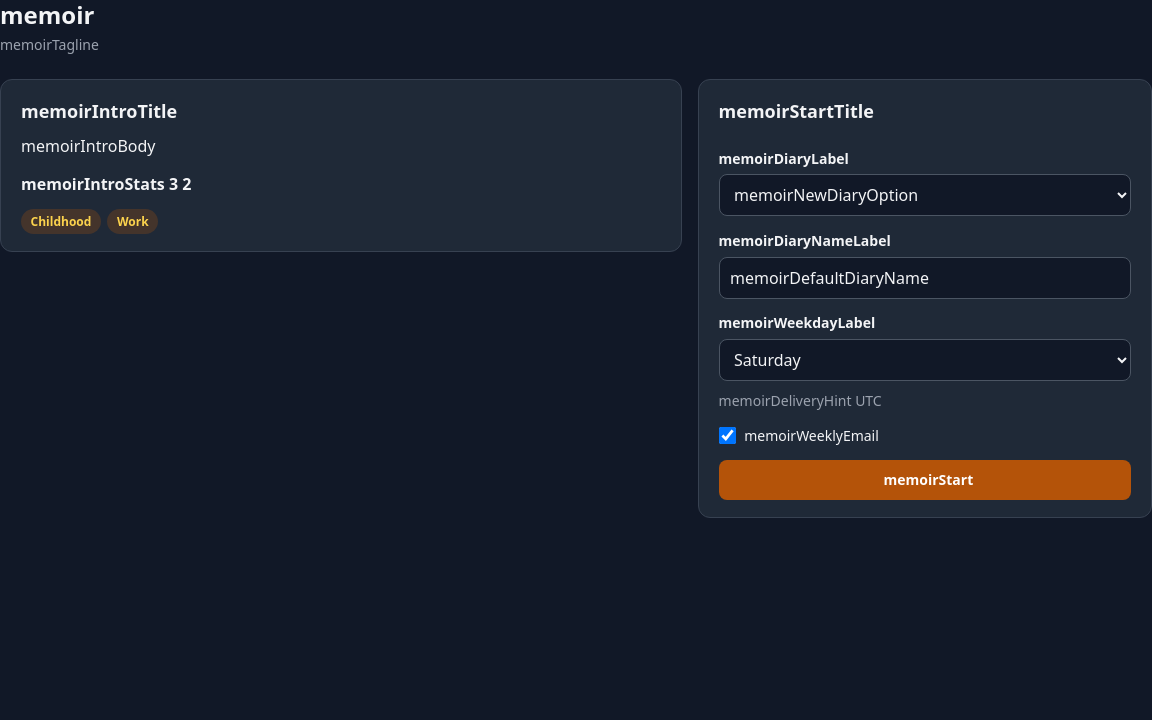
Test case: MemoirPage › introduces the program and starts it in a new diary named by the writer
expect the heading "memoirIntroTitle" is shown: met, box [21,99,177,123]
expect the text "memoirIntroStats 3 2" is shown: met, box [21,173,191,195]
Replace the text in the field labelled "memoirDiaryNameLabel" with "  Grandpa’s story ". click: (925, 278)
box: [719,257,1131,299]
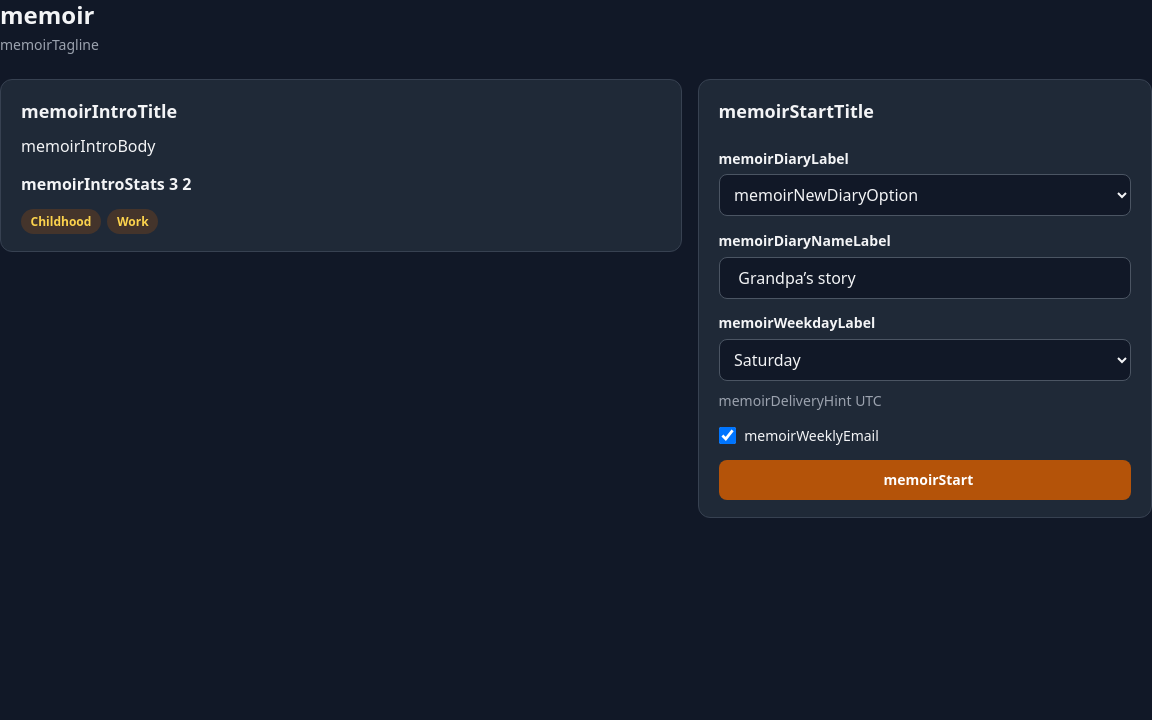
Select "Wednesday" in the dropdown labelled "memoirWeekdayLabel". click: (925, 360)
box: [719,339,1131,381]
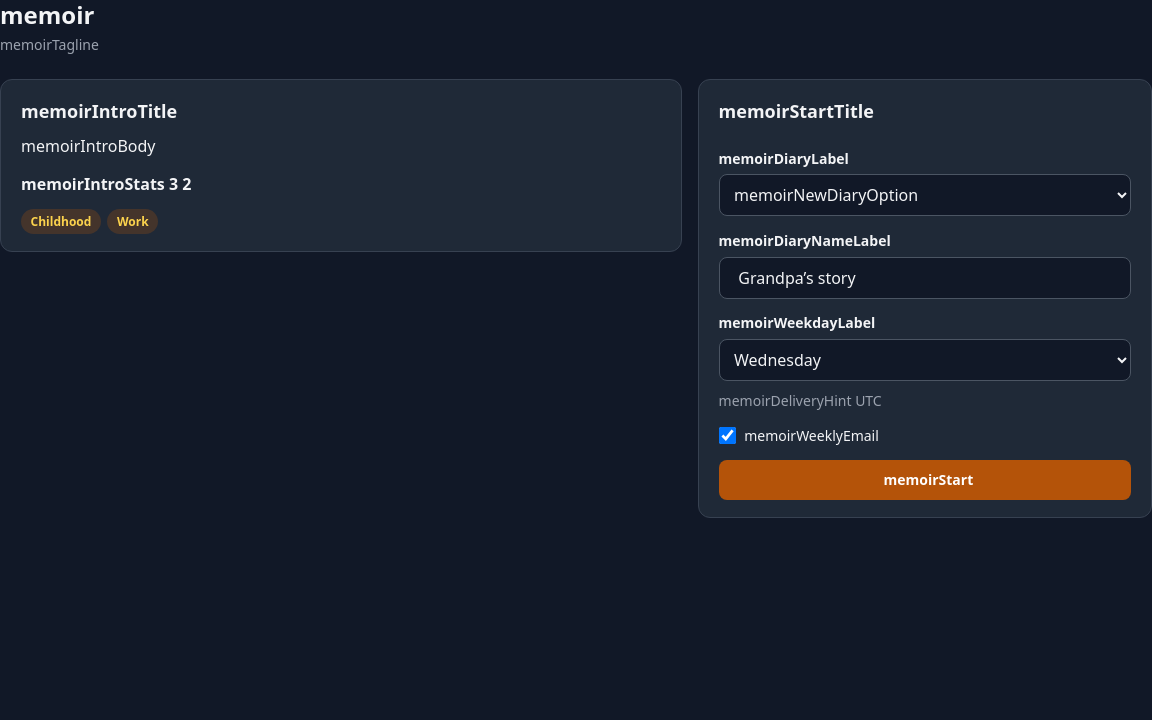
Click the checkbox labelled "memoirWeeklyEmail". click: (727, 435)
box: [719,427,736,444]
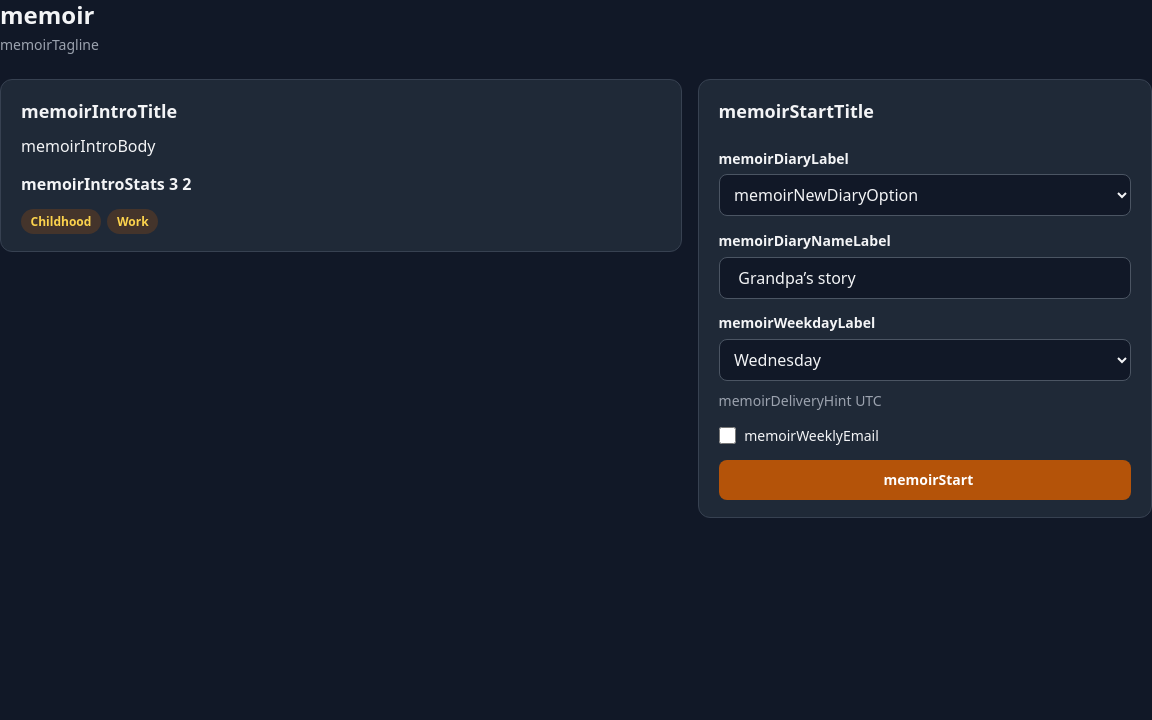
Click the button "memoirStart". click: (925, 480)
box: [719,460,1131,500]
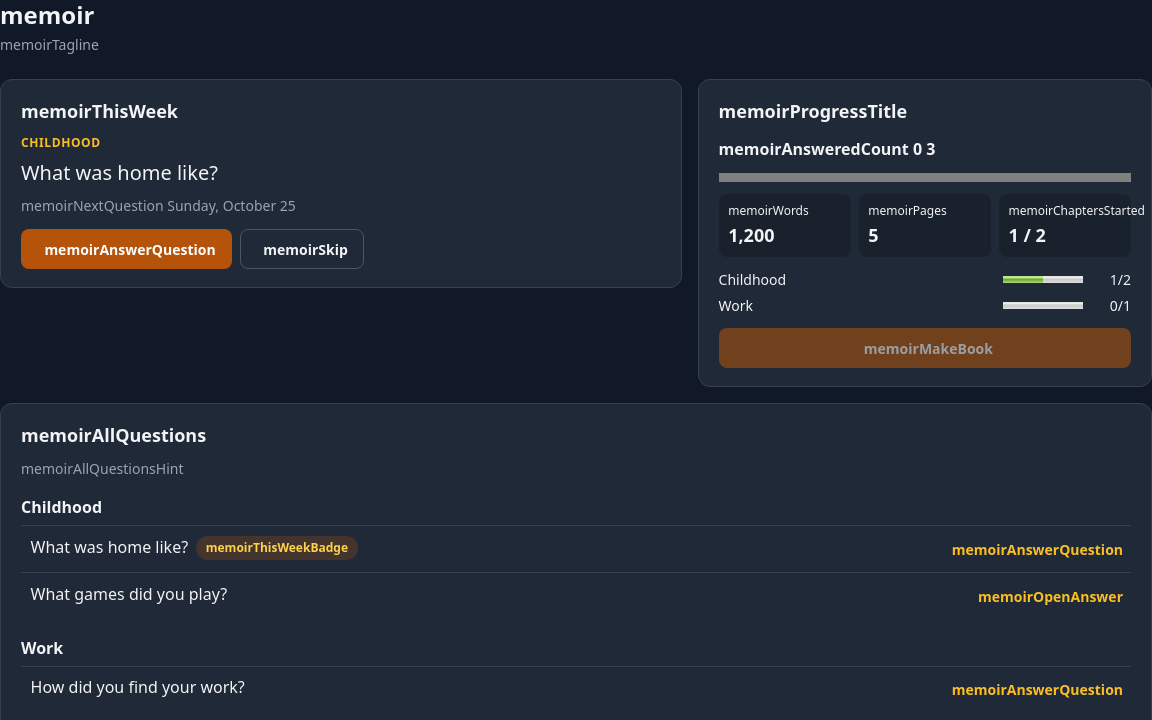
expect the heading "memoirThisWeek" is shown: met, box [21,99,178,123]
